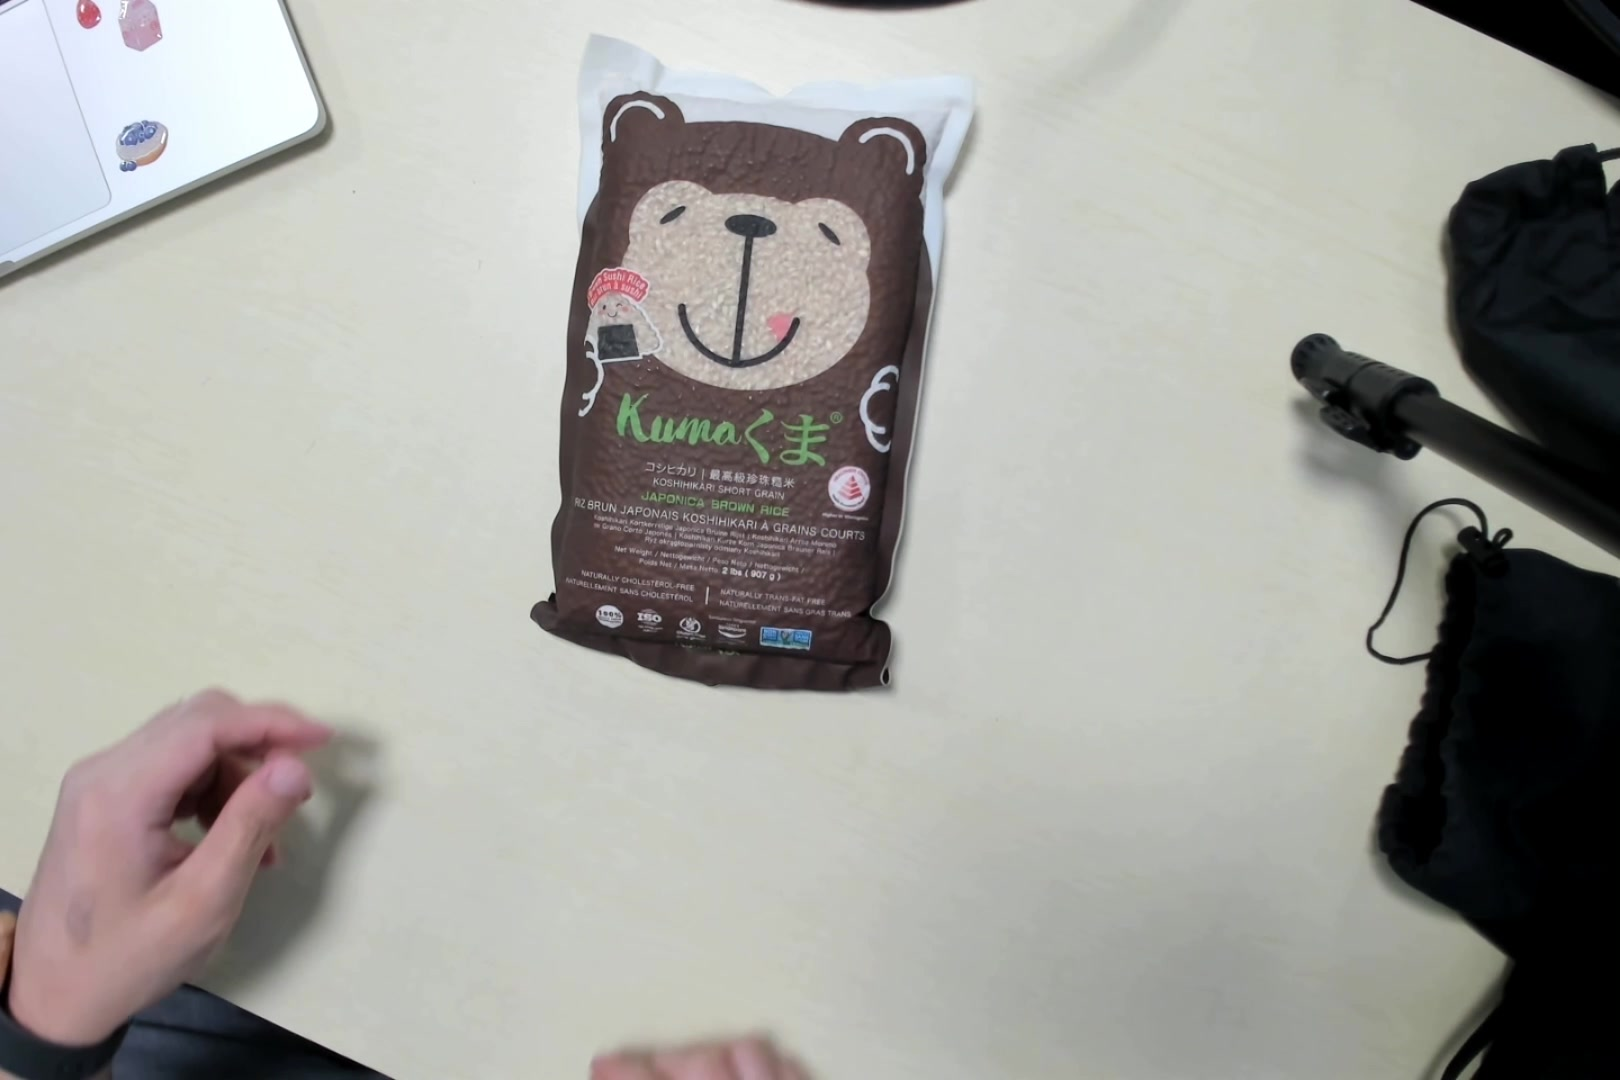Rice(BrownOthers)_500-599g_NonHalal_Healthy: (553, 55, 970, 693)
